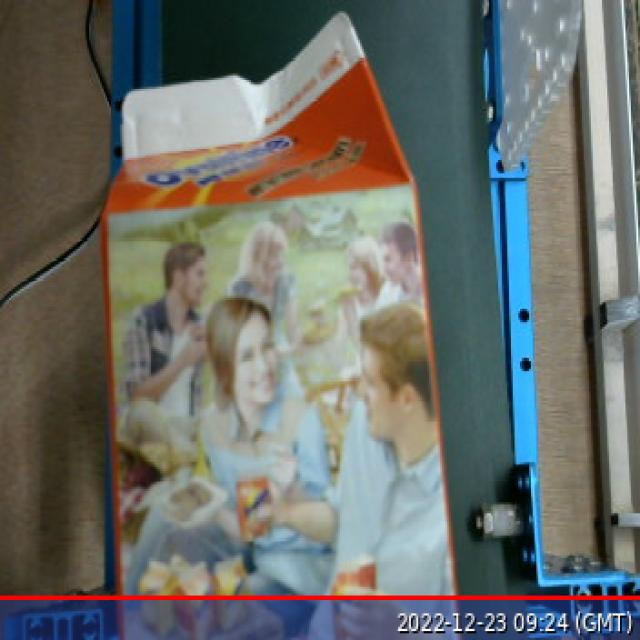non_white_jug: (103, 33, 459, 640)
